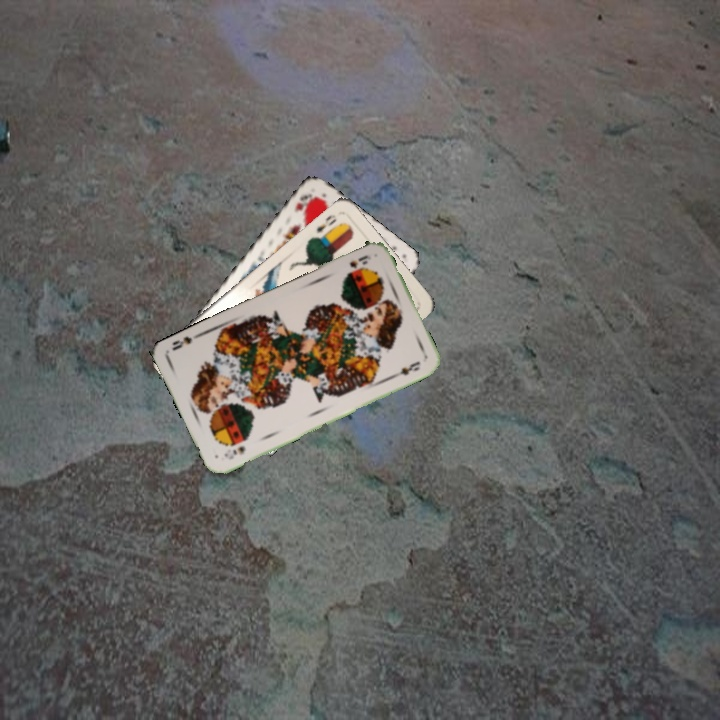EO: (312, 210, 339, 235)
HK: (290, 189, 315, 215)
SO: (342, 251, 371, 277), (220, 442, 248, 462)
